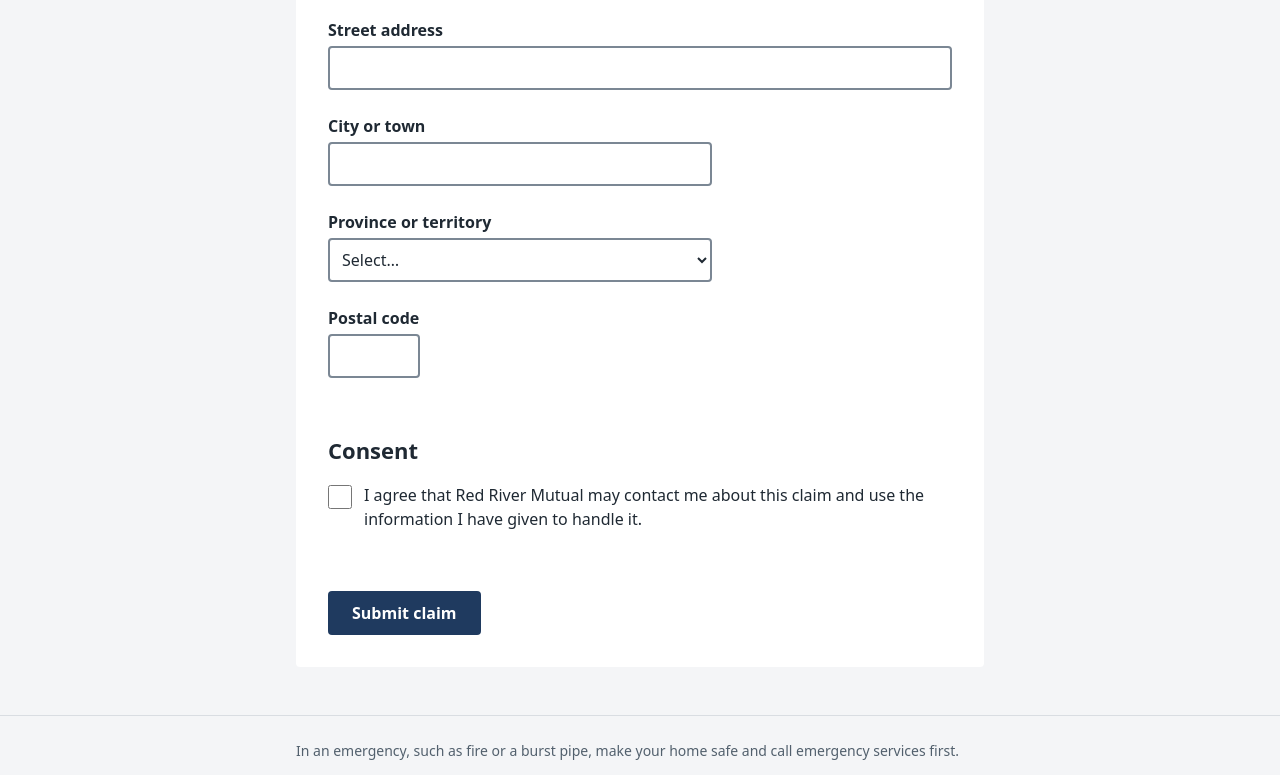
Test: claim portal › submitting an empty form lists every required field in a focused summary and sends nothing
(page scrolled)
Click the button "Submit claim": coordinates (404, 613) [328,591,480,635]
(page scrolled)
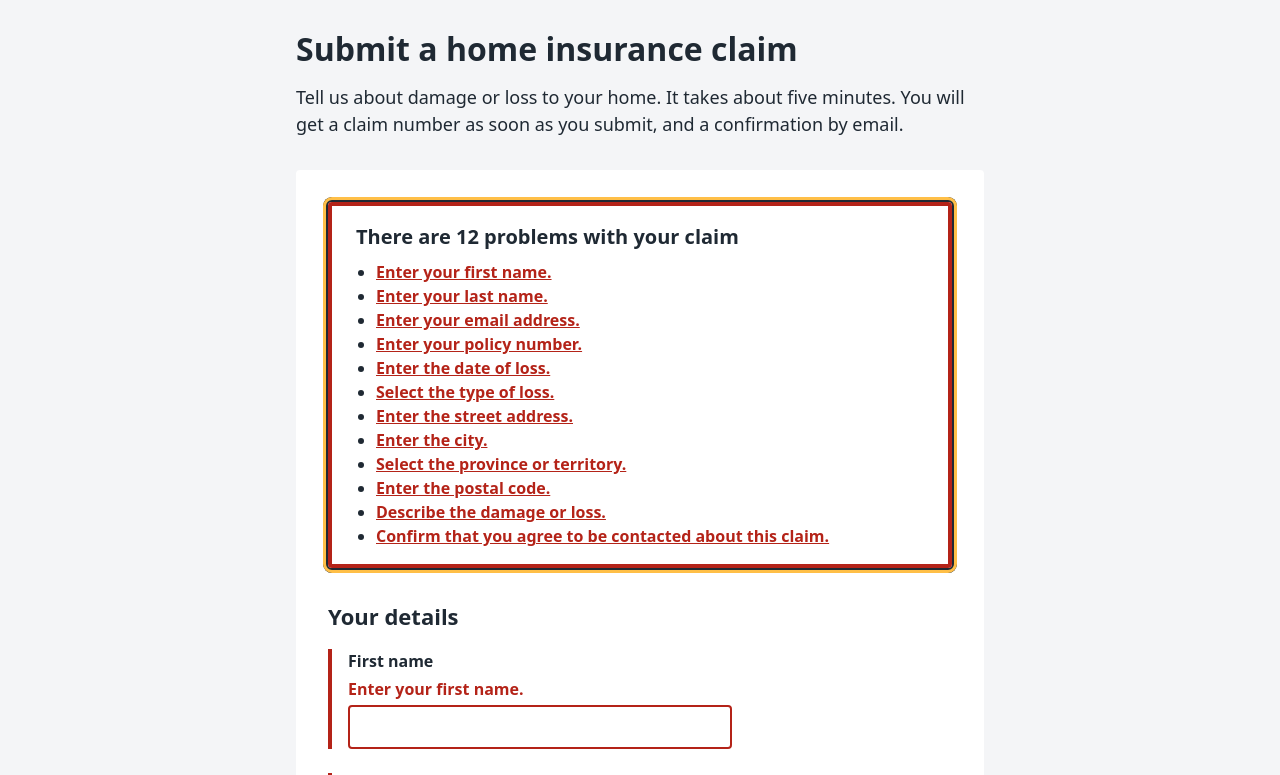
Result: the heading "There are 12 problems with your claim" is shown at [356,223,739,250]
